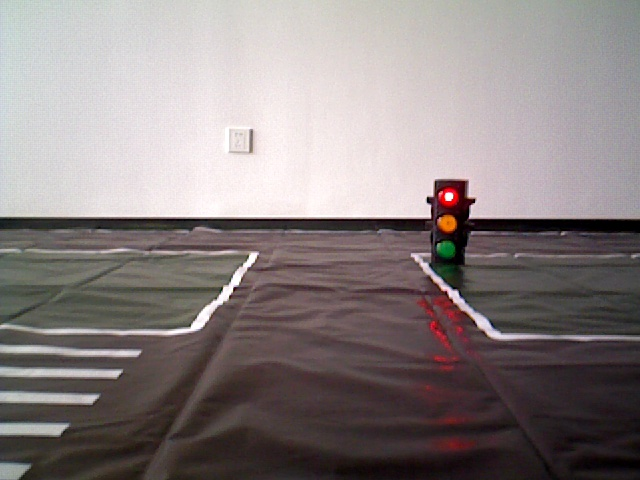red: (432, 181, 462, 263)
